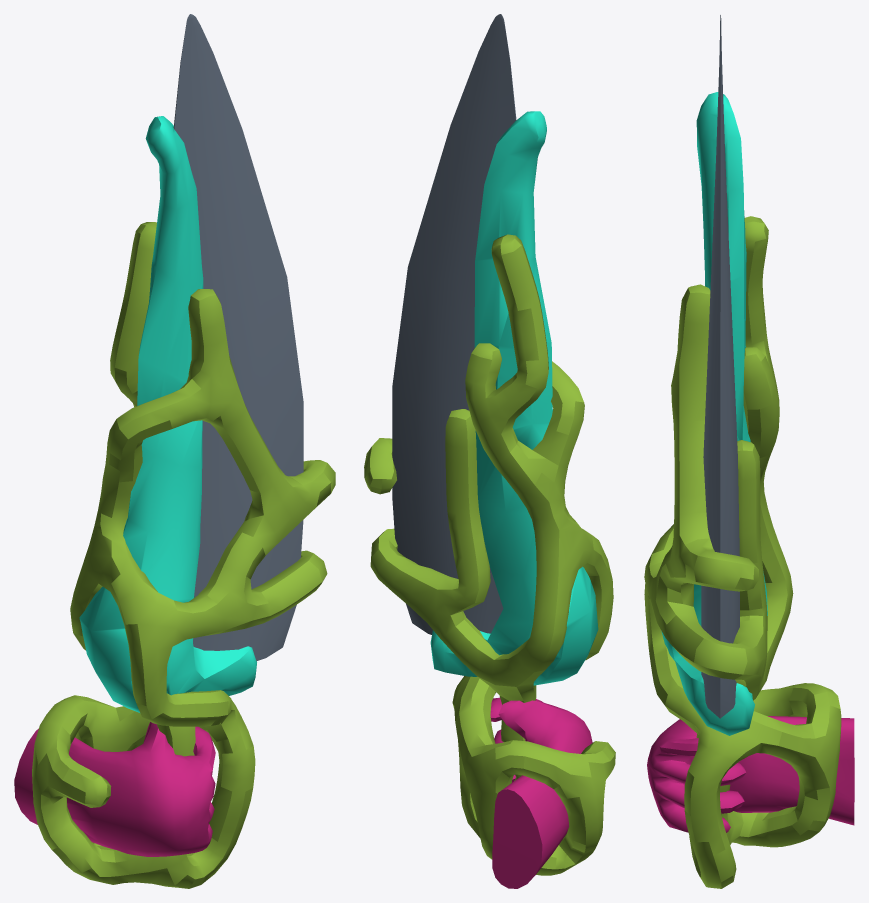
3 renders of one model, left to right at view 1: azimuth 30°, elevation 25°; view 2: azimuth 150°, elevation 25°; view 3: azimuth 270°, elevation 25°, orthographic. The views are drawn at different scales.
Visible parts, largest first — view 1: split_parent_3, Object_4, Object_6, Object_8; view 2: split_parent_3, Object_4, Object_6, Object_8; view 3: split_parent_3, Object_4, Object_6, Object_8.
Part boxes in pixels (x1=…): split_parent_3: x1=32, y1=222, x2=335, y2=888; Object_4: x1=173, y1=14, x2=303, y2=661; Object_6: x1=79, y1=116, x2=256, y2=712; Object_8: x1=14, y1=722, x2=215, y2=856; split_parent_3: x1=364, y1=234, x2=615, y2=875; Object_4: x1=392, y1=14, x2=516, y2=634; Object_6: x1=430, y1=111, x2=598, y2=685; Object_8: x1=490, y1=697, x2=592, y2=888; split_parent_3: x1=644, y1=216, x2=841, y2=888; Object_4: x1=701, y1=15, x2=739, y2=718; Object_6: x1=661, y1=92, x2=767, y2=735; Object_8: x1=647, y1=716, x2=854, y2=832.
Size of the model in its own units: 0.3215 by 1 by 0.2182.
